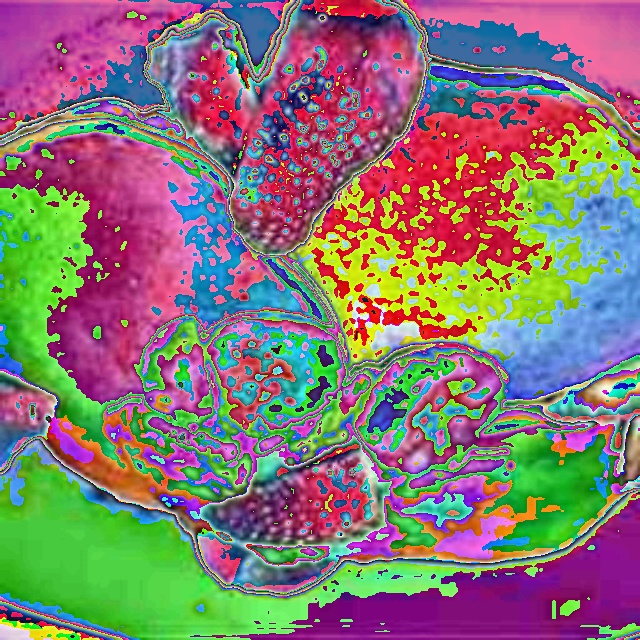background: (0, 0, 640, 598)
